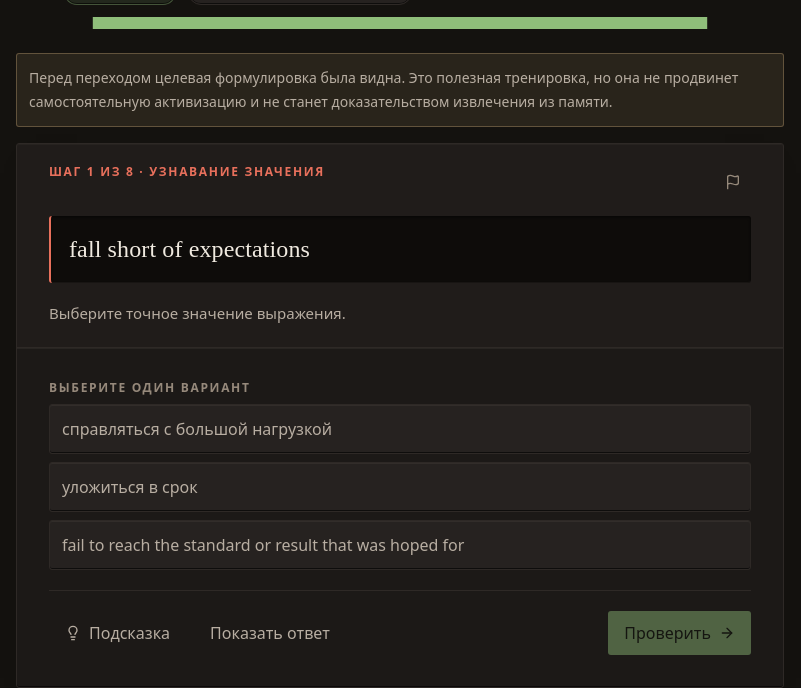
Test: PracticePage cross-route support provenance › caps visible-card practice at Hard and does not advance activation
(page scrolled)
Check: the text "целевая формулировка была видна" is shown, box x1=29 y1=68 x2=738 y2=111
Click the button "fail to reach the standard or result that was hoped for". click: coordinates (400, 545)
box: x1=49 y1=520 x2=751 y2=570
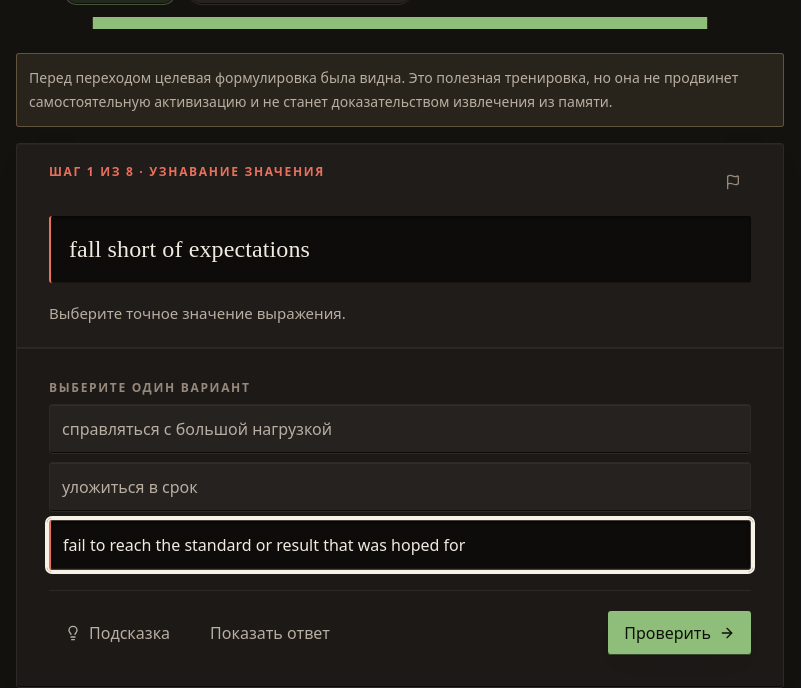
Click the button "Проверить". click: coordinates (680, 633)
box: x1=608 y1=611 x2=751 y2=655
(page scrolled)
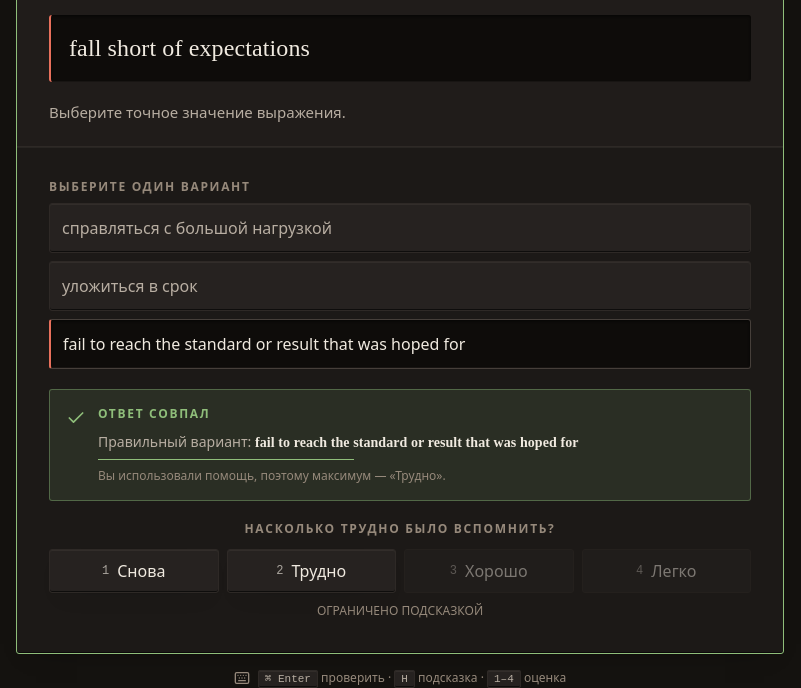
Check: the button "3 Хорошо" is disabled, box x1=404 y1=549 x2=574 y2=593
Check: the button "4 Легко" is disabled, box x1=582 y1=549 x2=751 y2=593
Check: the button "2 Трудно" is enabled
Click the button "2 Трудно". click: coordinates (311, 571)
box: x1=226 y1=549 x2=396 y2=593
(page scrolled)
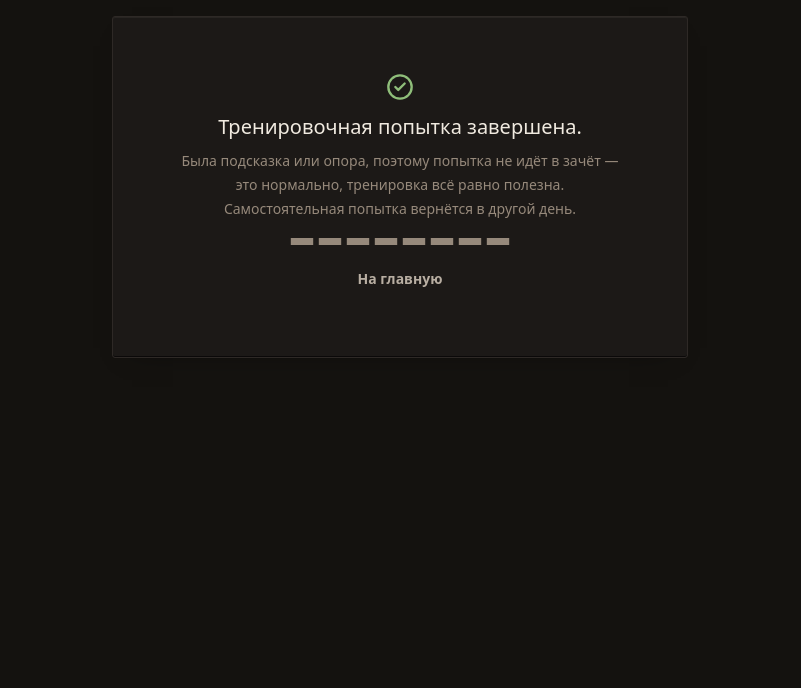
Check: the heading "Тренировочная попытка завершена." is shown, box x1=218 y1=113 x2=582 y2=140
